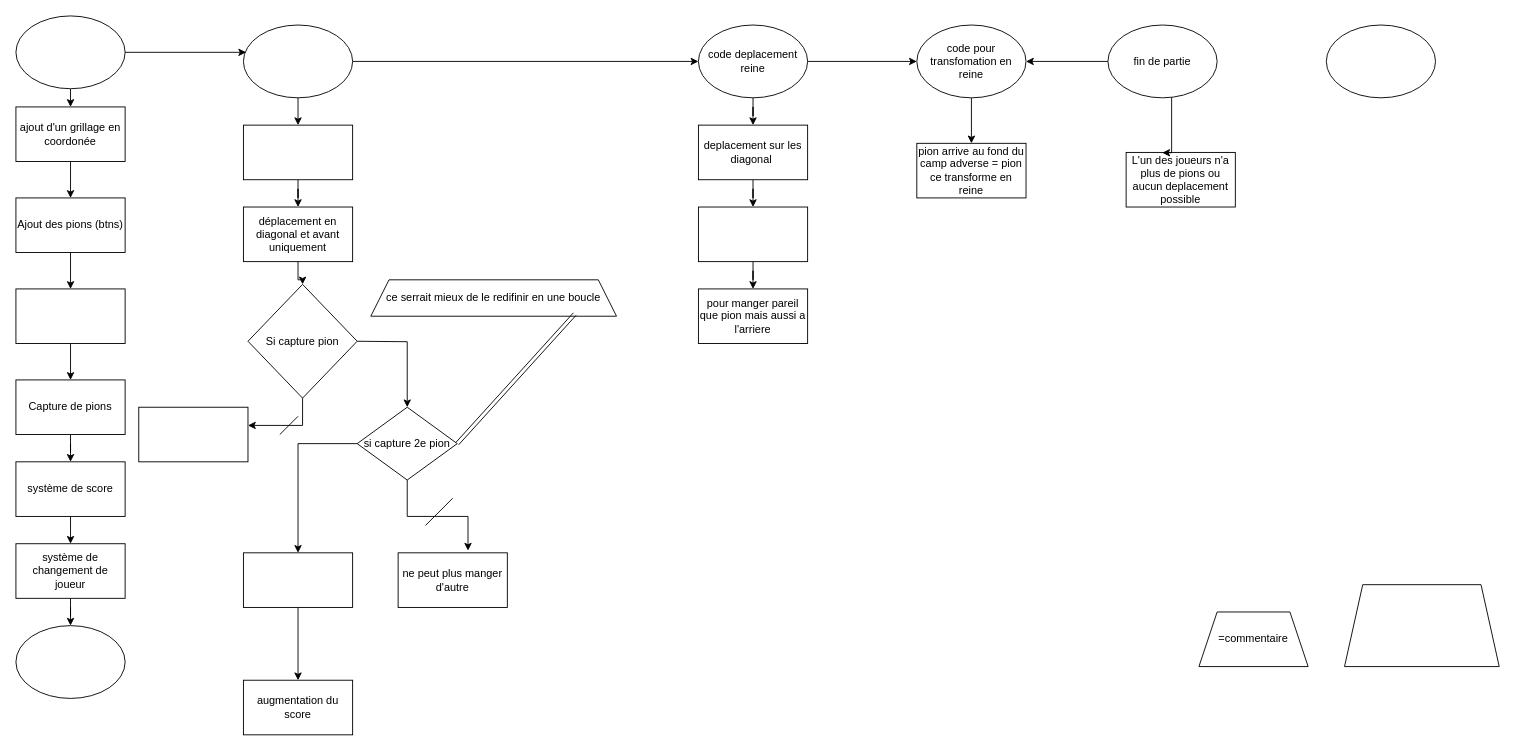
Image size: 1515x751. Some labels were removed from this diagram. The shapes that lost their labels are listed below. From the top down, each one's centre as x and y in pixels, then its label:
At [70,52]: "Mise en graphique".
At [298,61]: "Code deplacement pion".
At [298,152]: "Associé chaque pion a une valeur / coordonée".
At [753,234]: "peut avancer indefiniment su le tableau tant que le passage et libre".
At [70,316]: "déplacement des pions en diagonal".
At [193,434]: "ne peut pas manger".
At [298,579]: "on peut manger plus".
At [1421,625]: "fond = coordonée du fond".
At [70,661]: "Fin".
